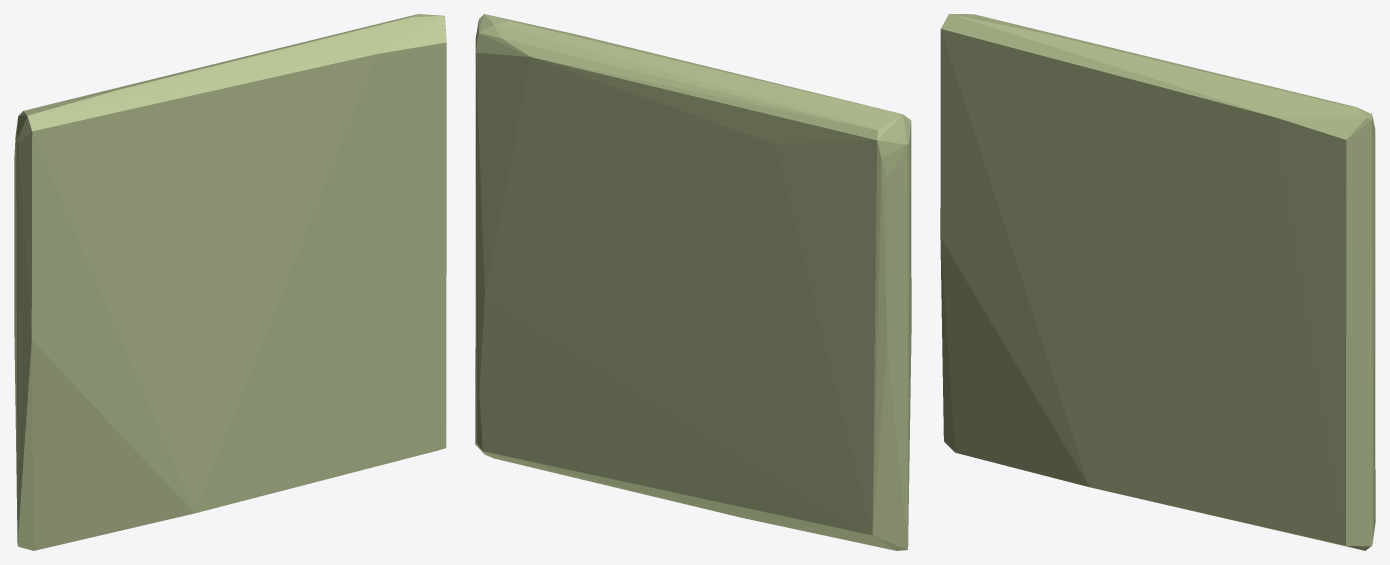
File: food_prepared_waffle_a01.glb
3 views of the same model, side by side, from view 1: azimuth 30°, elevation 25°; view 2: azimuth 150°, elevation 25°; view 3: azimuth 330°, elevation 25° (orthographic).
Parts seen in each view (by area): view 1: geometry_0; view 2: geometry_0; view 3: geometry_0.
Part boxes in pixels (left/top/right/bottom): geometry_0: left=14, top=14, right=446, bottom=550; geometry_0: left=475, top=14, right=911, bottom=550; geometry_0: left=940, top=14, right=1375, bottom=550.
Bounding box in the file's own units: 0.4797 × 0.4715 × 0.0634.
